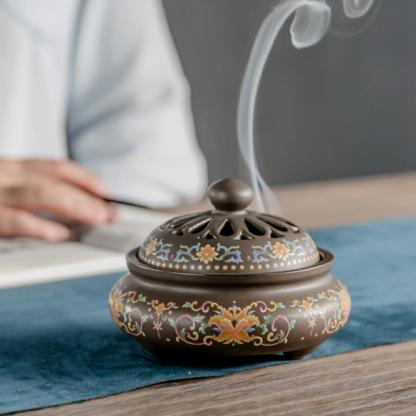smoke: (234, 1, 379, 214)
